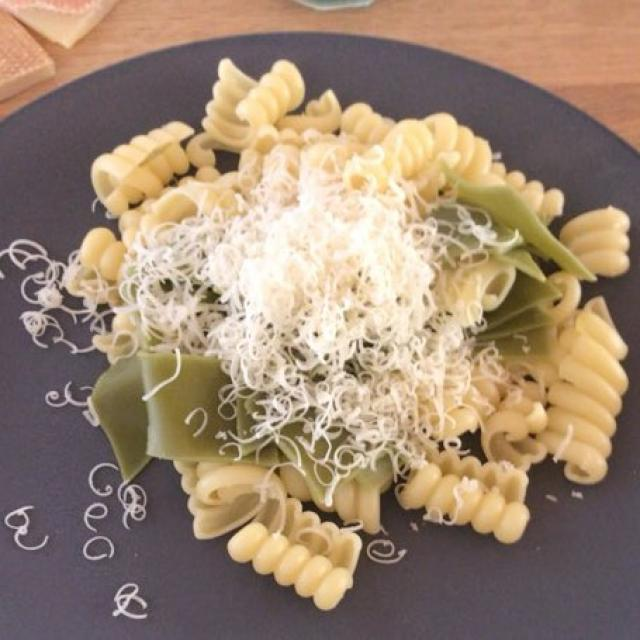gruyere: (28, 163, 519, 470)
pasta: (56, 67, 625, 596)
